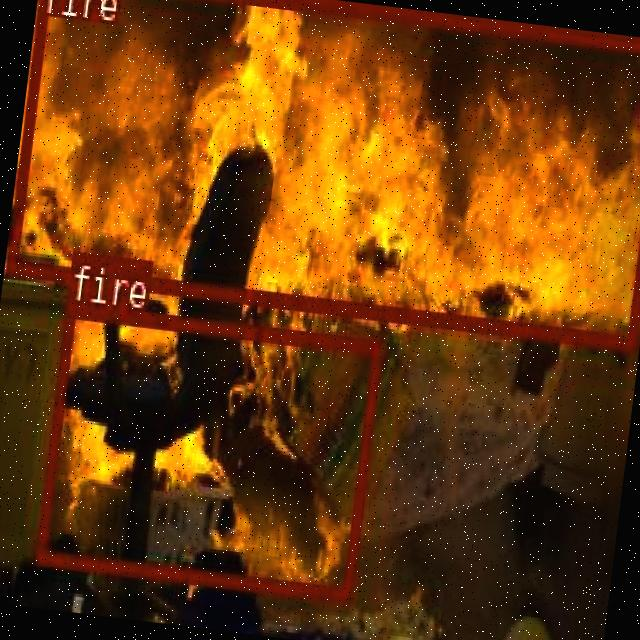fire: (5, 0, 640, 345), (34, 300, 381, 598)
